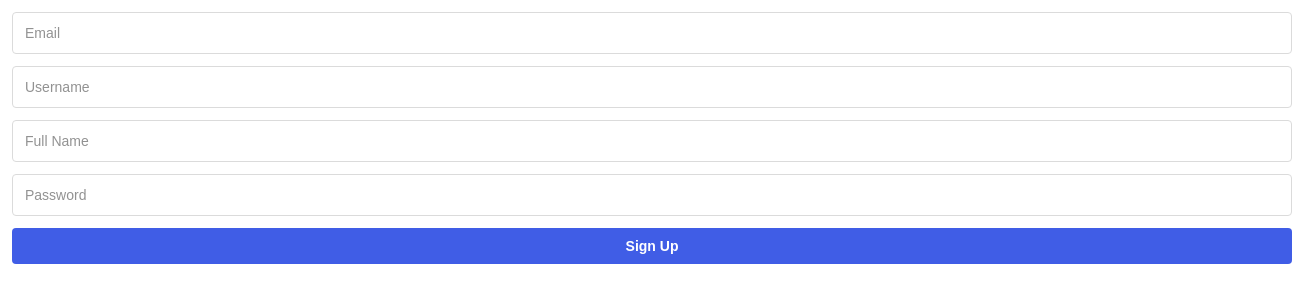
Test: SignupForm › shows loading state while submitting
The image size is (1304, 281).
Step 1. Type "a@b.com" into the field with placeholder "Email" → (652, 33), box [12,12,1292,54]
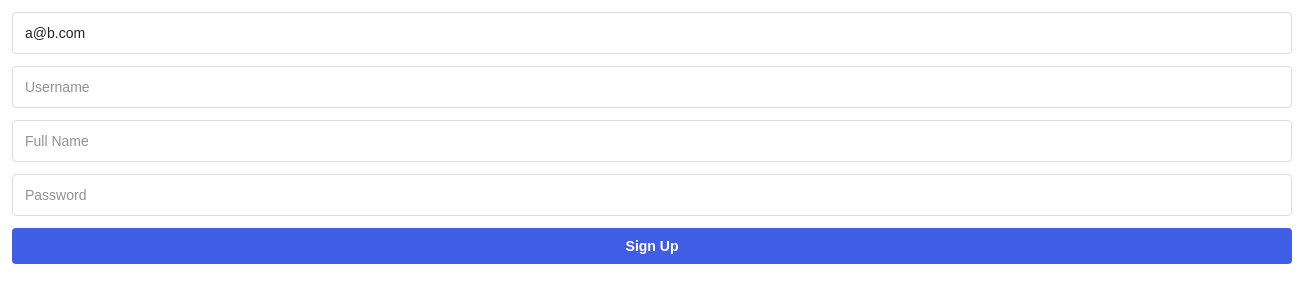
Step 2. Type "user" into the field with placeholder "Username" → (652, 87), box [12,66,1292,108]
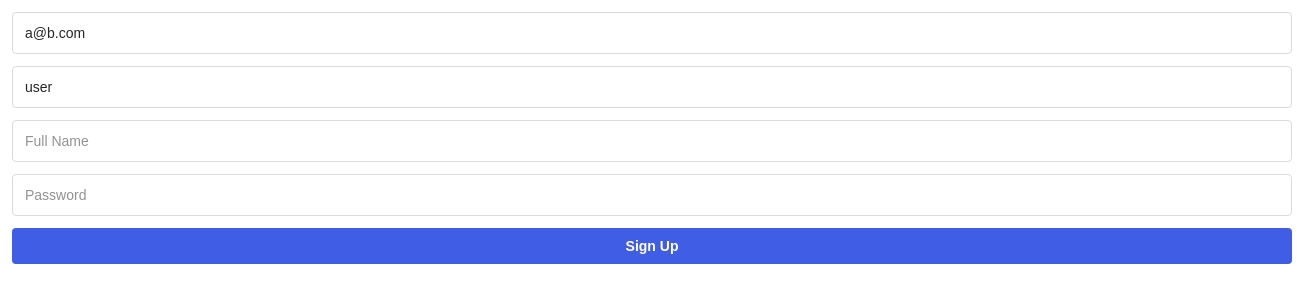
Step 3. Type "123456" into the password field with placeholder "Password" → (652, 195), box [12,174,1292,216]
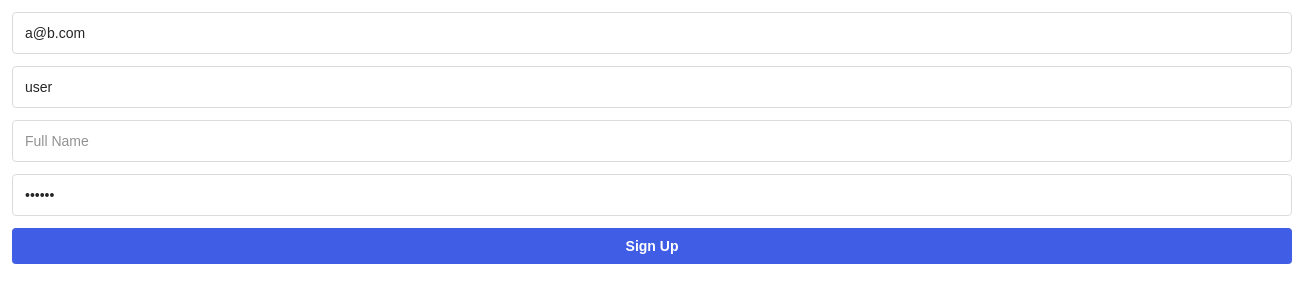
Step 4. Click the button "Sign Up" → (652, 246), box [12,228,1292,264]
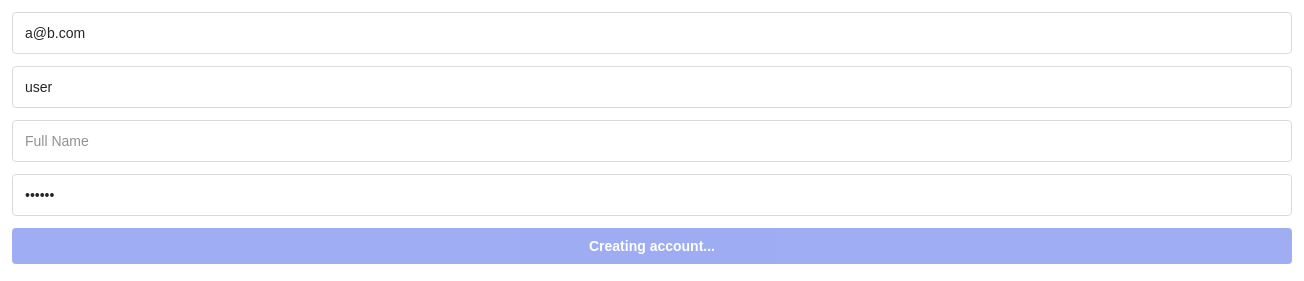
Now the button "Creating account..." is shown, box [12,228,1292,264]
